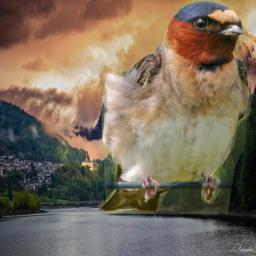Swallow: (97, 0, 254, 214)
